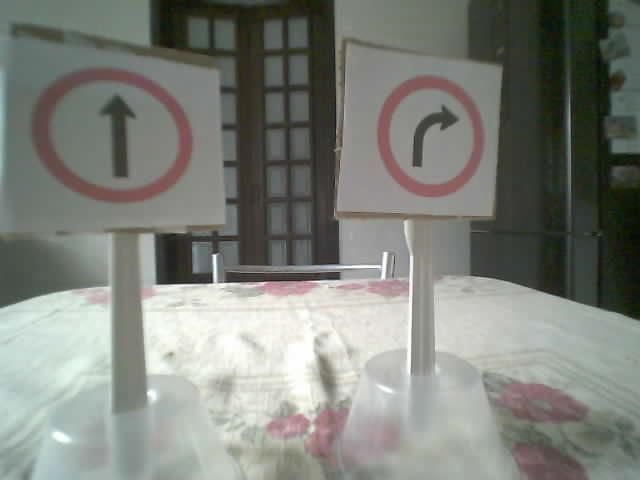R-25b_direita: (375, 74, 484, 197)
R-26_frente: (30, 66, 191, 205)
